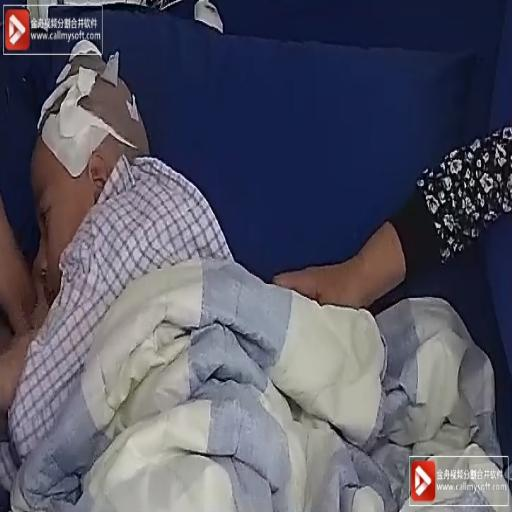Seizure: (43, 86, 157, 259)
